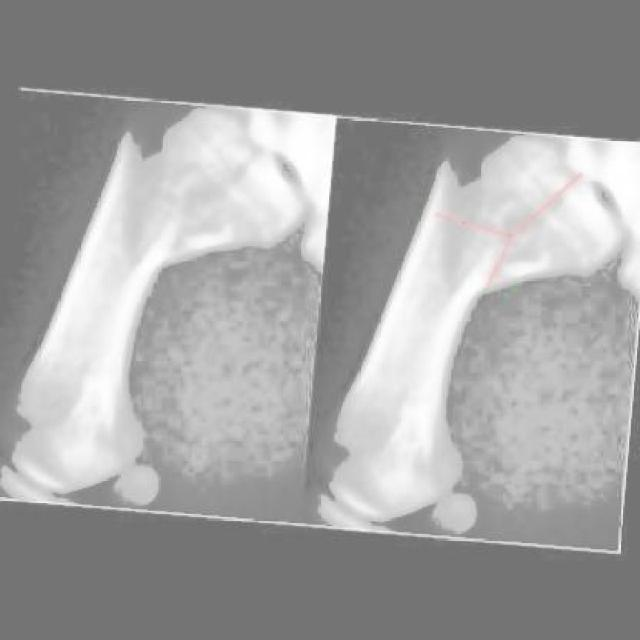Fracture: (86, 123, 260, 279), (428, 146, 568, 300)
